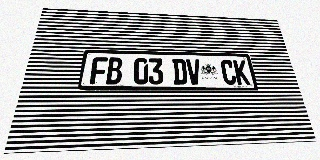0: (133, 58, 148, 84)
3: (149, 58, 163, 85)
B: (106, 57, 123, 84)
C: (220, 60, 237, 85)
D: (172, 59, 188, 85)
F: (90, 57, 108, 84)
K: (233, 60, 250, 85)
V: (186, 59, 202, 85)
